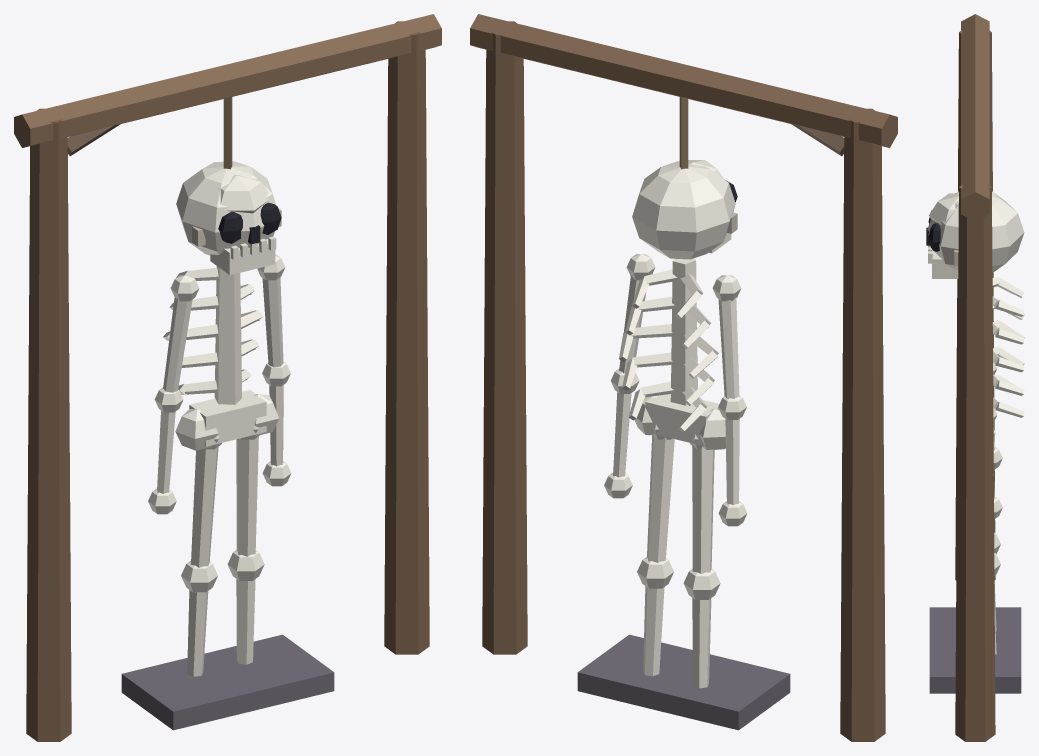
Rendered from skel_hang.glb.
3 views of the same model, side by side, from view 1: azimuth 30°, elevation 25°; view 2: azimuth 150°, elevation 25°; view 3: azimuth 270°, elevation 25° (orthographic). The views are drawn at different scales.
Visible parts, largest first — view 1: skel_hang; view 2: skel_hang; view 3: skel_hang.
Boxes of the visible parts, x1,y1,x2,y2 form: skel_hang: (14, 14, 441, 741); skel_hang: (470, 14, 897, 741); skel_hang: (926, 14, 1024, 741).
Bounding box in the file's own units: 2.3 × 3.4 × 0.5363.
